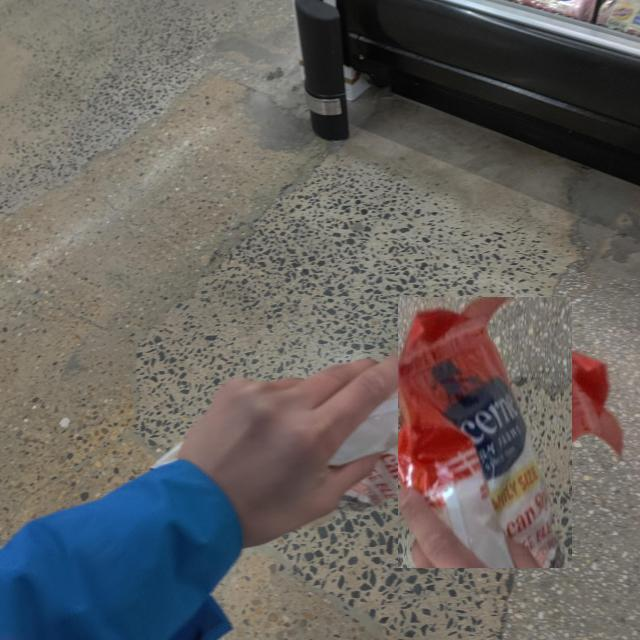Cheese: (398, 296, 572, 568)
